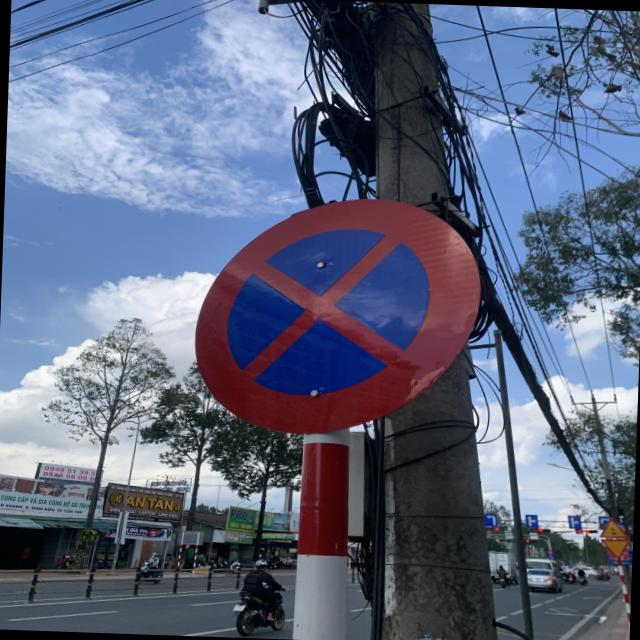Cam_Dung_Va_Dau_Xe: (191, 190, 484, 440)
